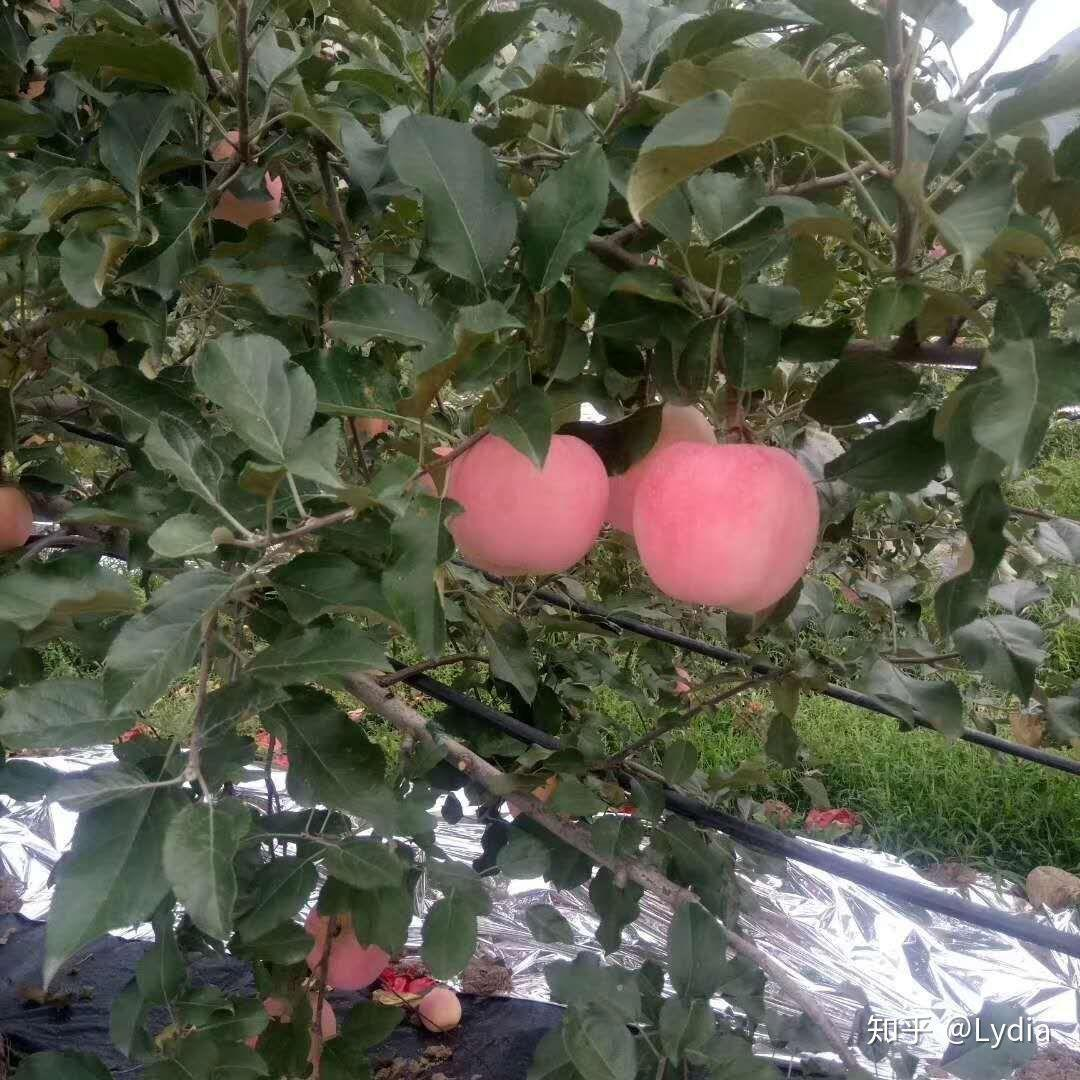apple: (629, 434, 820, 619), (439, 424, 609, 577), (298, 900, 395, 989), (416, 986, 468, 1032)
